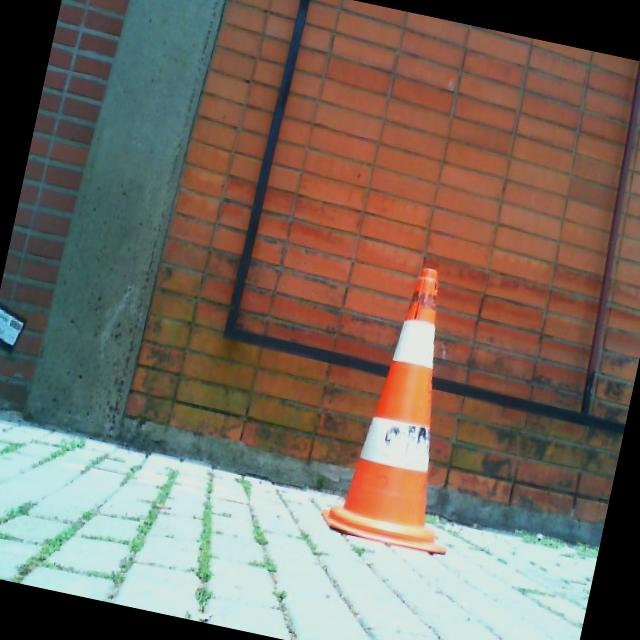cone: (316, 256, 504, 556)
